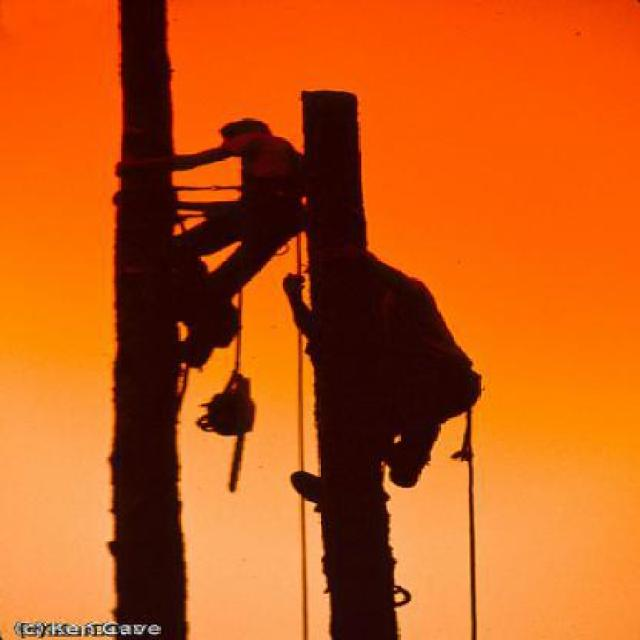Chainsaw: (198, 372, 264, 493)
